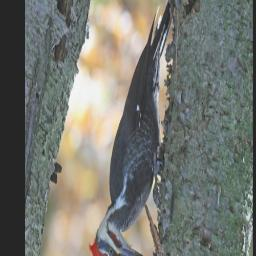Woodpecker: (88, 0, 176, 256)
